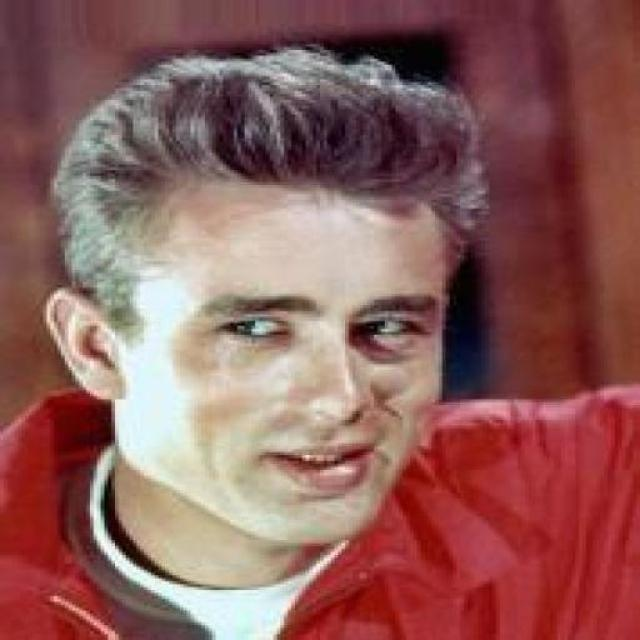bareface: (67, 107, 508, 544)
